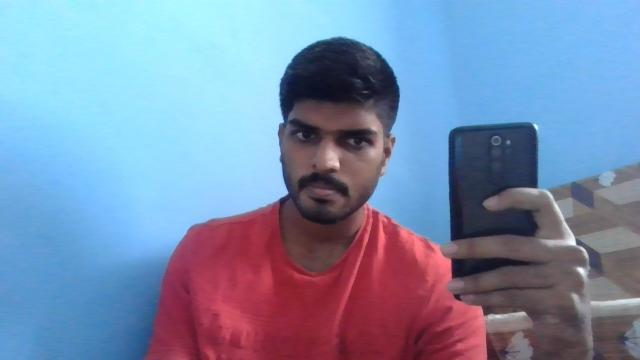PhoneUse: (448, 121, 546, 298)
SafeDriving: (284, 121, 324, 148), (336, 129, 378, 152)
